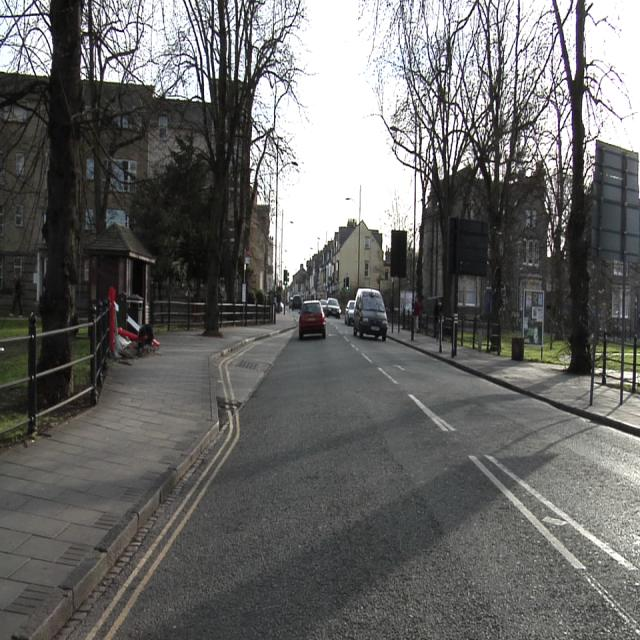Building: (287, 219, 383, 302)
Car: (353, 288, 387, 339), (299, 301, 326, 338), (326, 299, 339, 316)
Road: (66, 319, 636, 638)
Tree: (1, 3, 306, 333), (360, 0, 639, 345)
